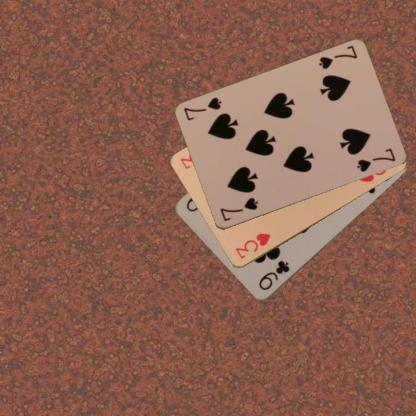3h: (232, 230, 272, 260)
7s: (218, 195, 260, 223), (316, 43, 358, 71)
9c: (256, 258, 291, 292)
